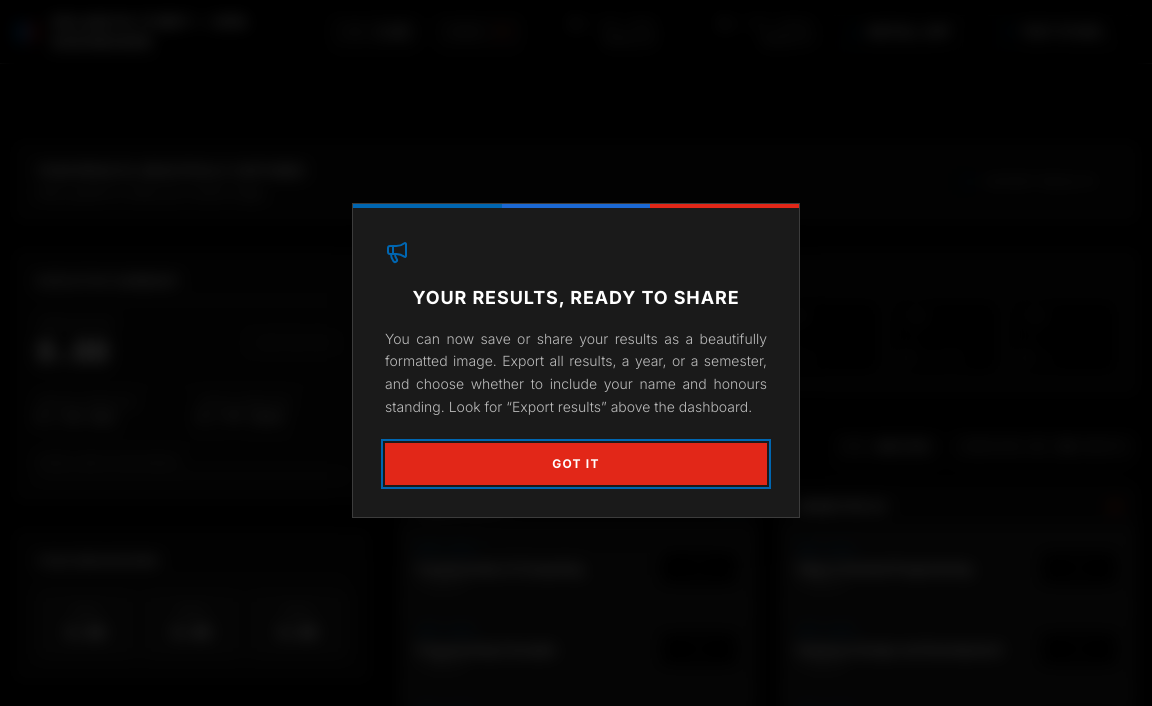
Test: App — announcements › shows new announcements, persists dismissal, and keeps them hidden after remount
Expected: the dialog "Your results, ready to share" is shown, [352,202,800,518]
Step 1. Click the button "Got it" → (576, 464), box [385,442,767,484]
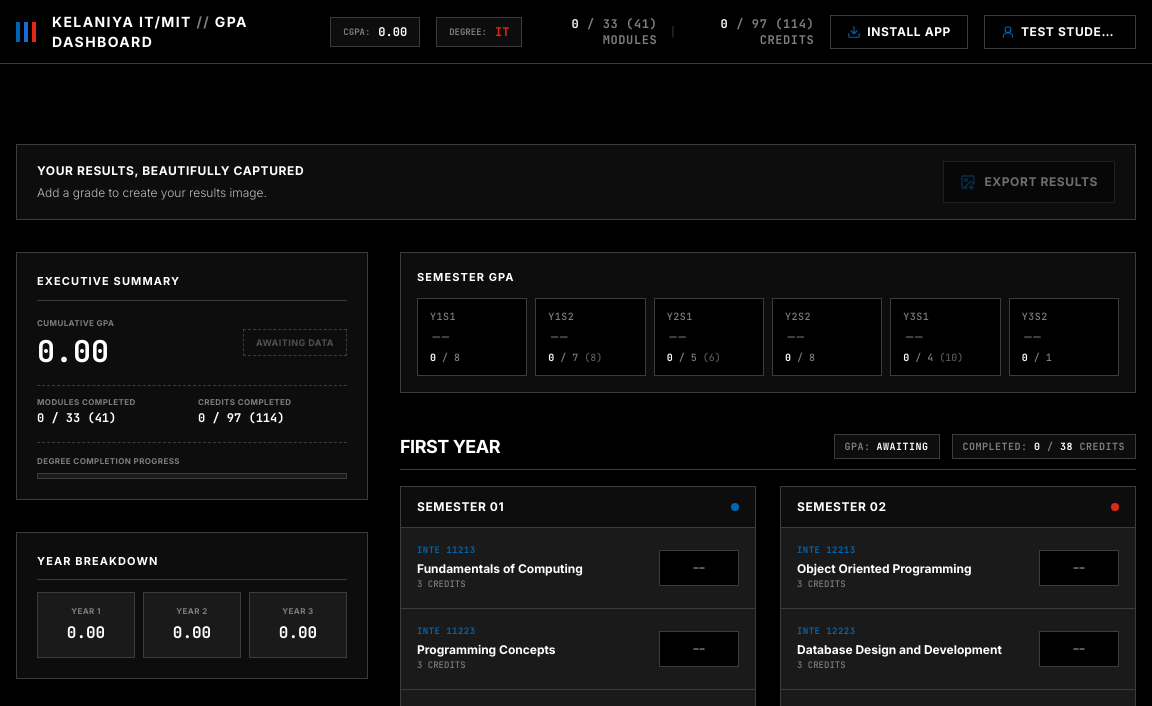
Expected: the heading "Your results, ready to share" is gone
